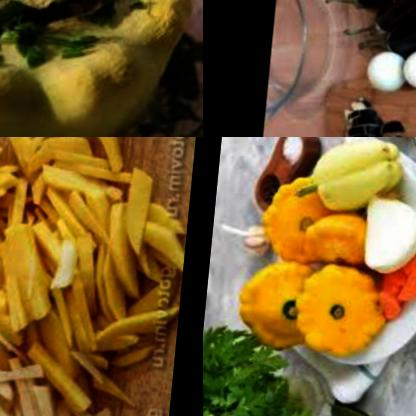bell pepper: (306, 137, 411, 215)
carrot: (370, 247, 416, 319)
eggplant: (333, 87, 416, 137), (386, 0, 416, 70)
onion: (362, 185, 416, 276)
potato: (0, 137, 197, 416)
squash-patisson: (0, 0, 203, 137), (289, 248, 400, 358), (228, 250, 326, 349), (250, 168, 336, 271), (297, 204, 374, 273)
